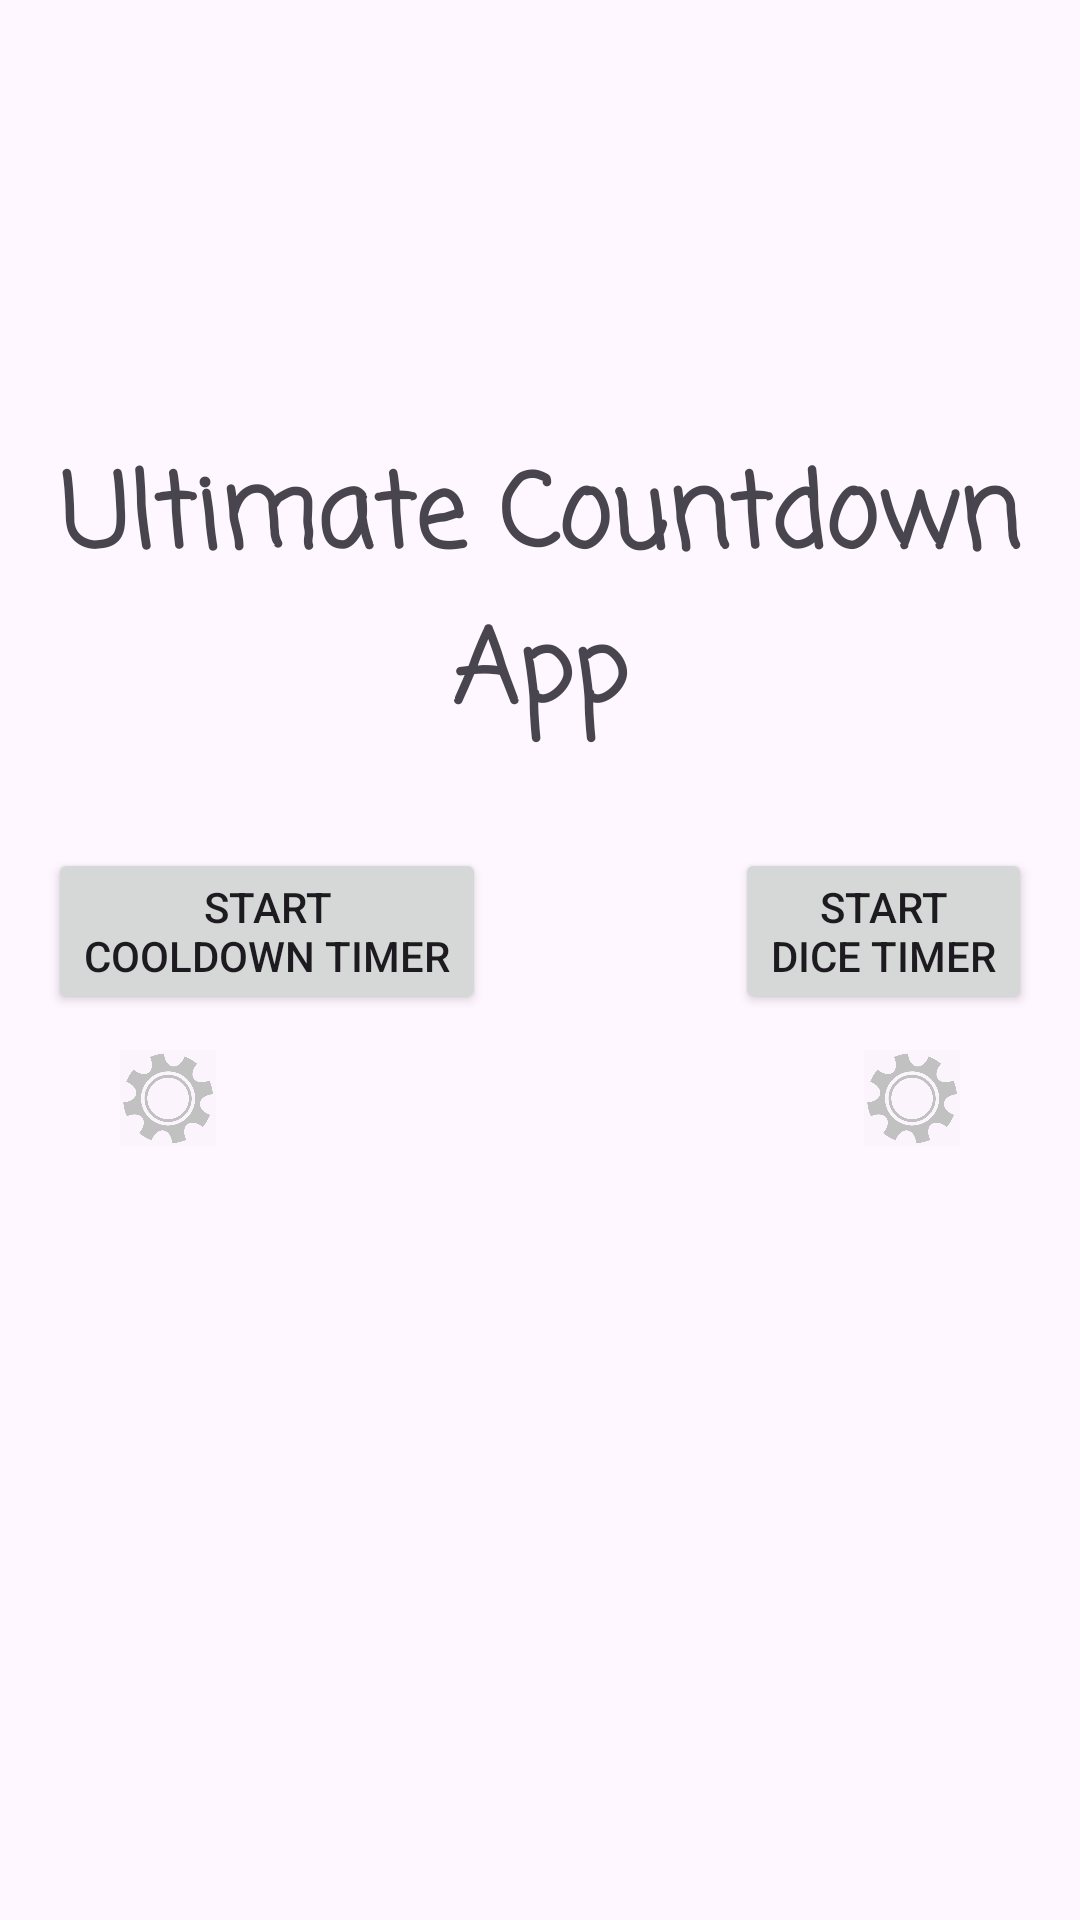

Icon click points for this 1080*1920 phone screenshot, format [x,y]:
cog: [168,1098], [912,1098]
